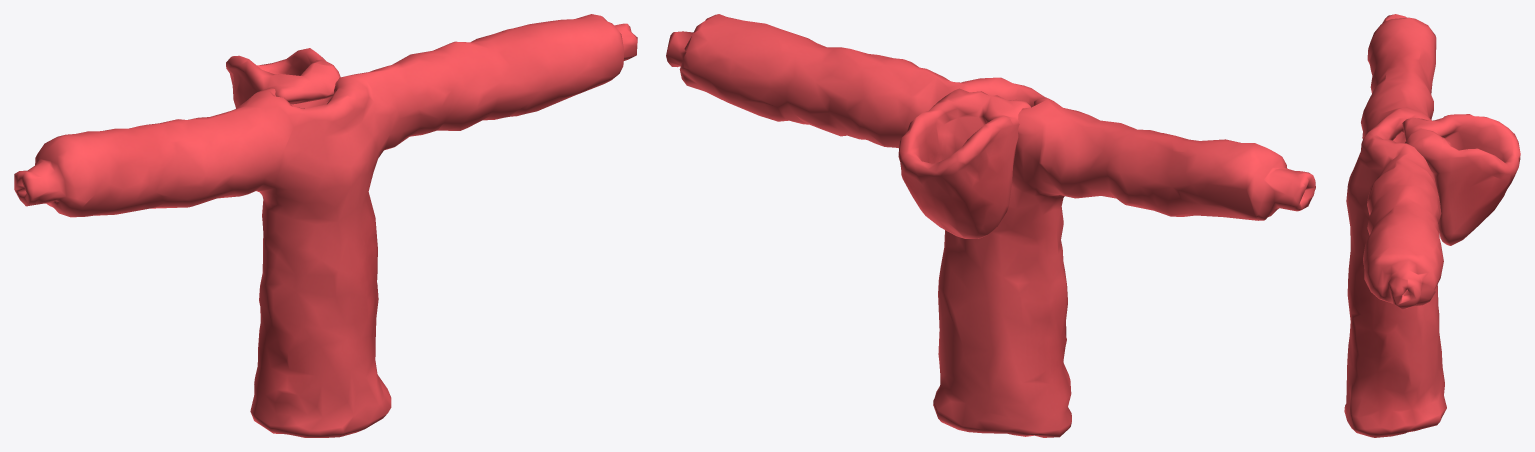
File: hoodie down pink.glb
The picture shows the model from 3 angles, left to right: view 1: azimuth 30°, elevation 25°; view 2: azimuth 150°, elevation 25°; view 3: azimuth 270°, elevation 25°; orthographic projection. The views are drawn at different scales.
Visible parts, largest first — view 1: shirt_hoodie_down_pink.001; view 2: shirt_hoodie_down_pink.001; view 3: shirt_hoodie_down_pink.001.
Boxes of the visible parts, x1,y1,x2,y2 form: shirt_hoodie_down_pink.001: (14,14,637,437); shirt_hoodie_down_pink.001: (666,14,1315,437); shirt_hoodie_down_pink.001: (1344,14,1520,437).
Bounding box in the file's own units: 0.7061 × 0.3677 × 0.1974.
Materials: 2 (2 with a texture image).
